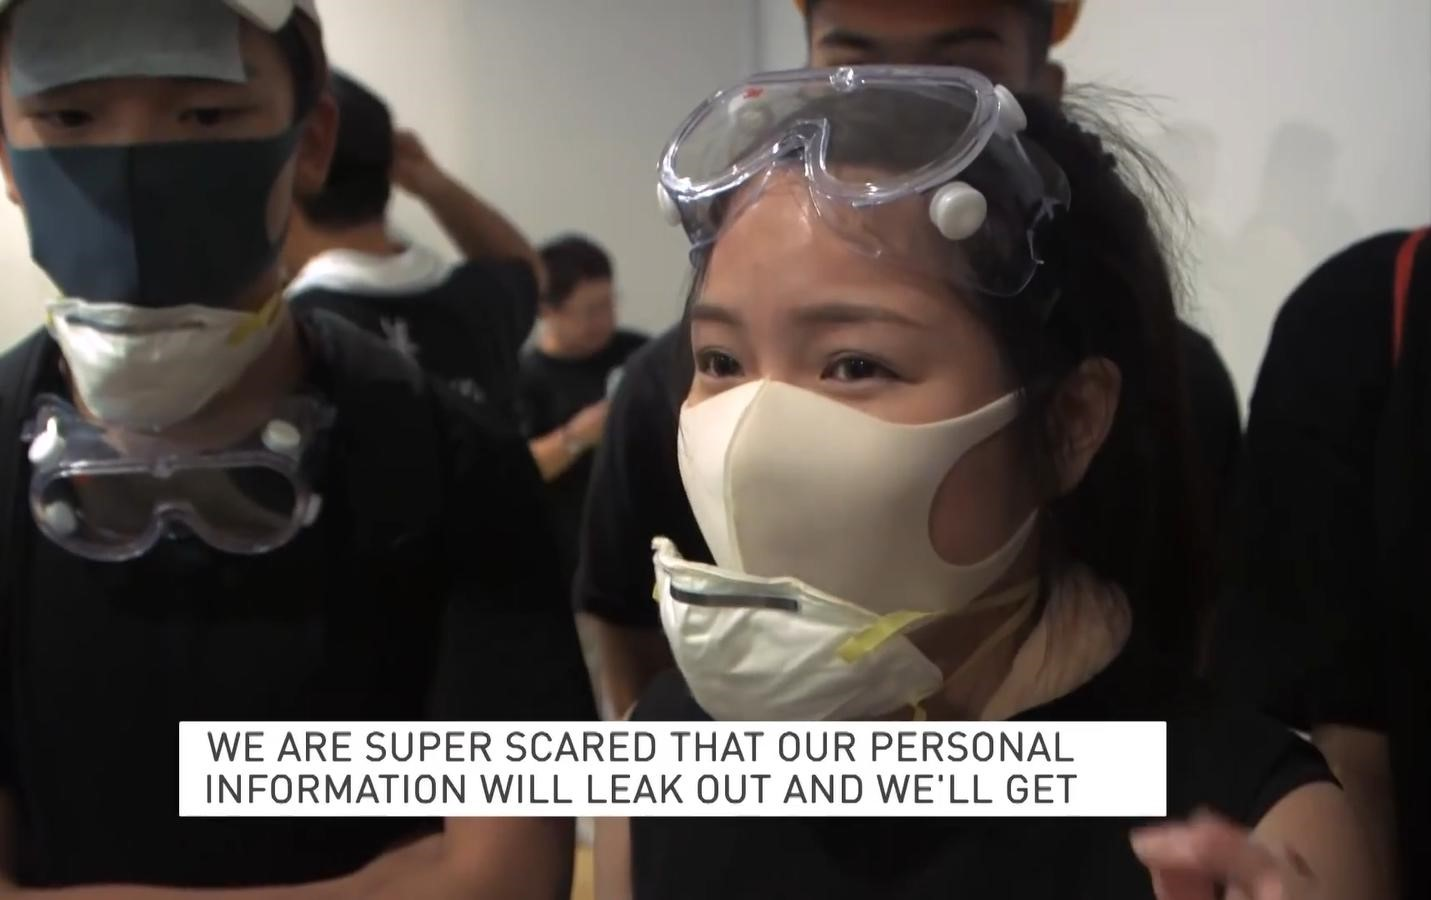with_mask: (709, 304, 948, 606), (40, 66, 260, 294)
without_mask: (558, 302, 610, 348)
